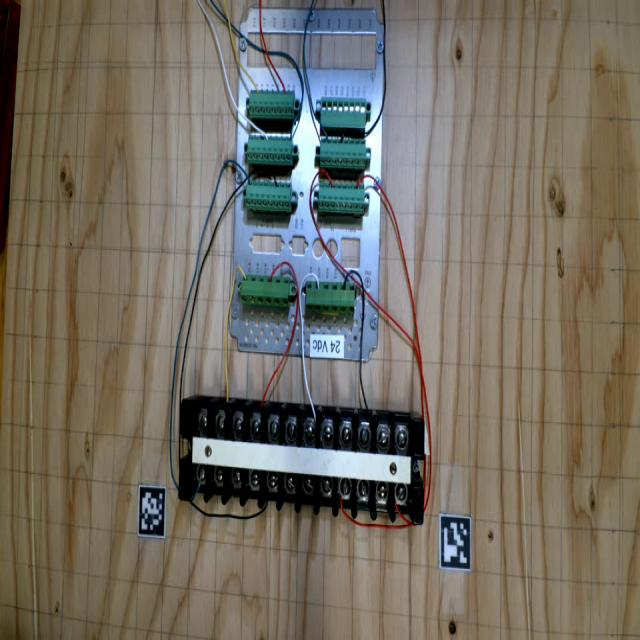Flathead_Block: (172, 396, 433, 524)
Terminal_1: (305, 281, 355, 315), (240, 274, 290, 307)
Terminal_2: (318, 182, 365, 214), (245, 180, 291, 211), (320, 139, 365, 168), (247, 136, 292, 165), (249, 90, 294, 119)
